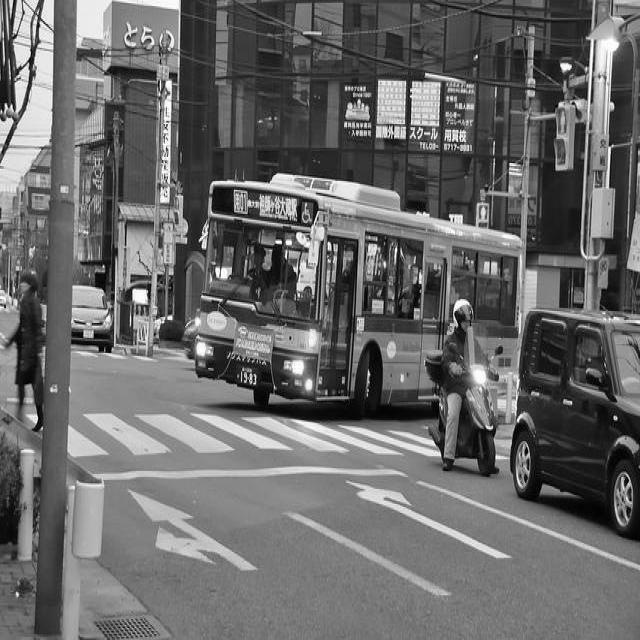vehicle: (188, 171, 524, 423), (510, 306, 640, 540), (424, 341, 504, 477), (71, 286, 113, 352), (0, 290, 6, 307)
